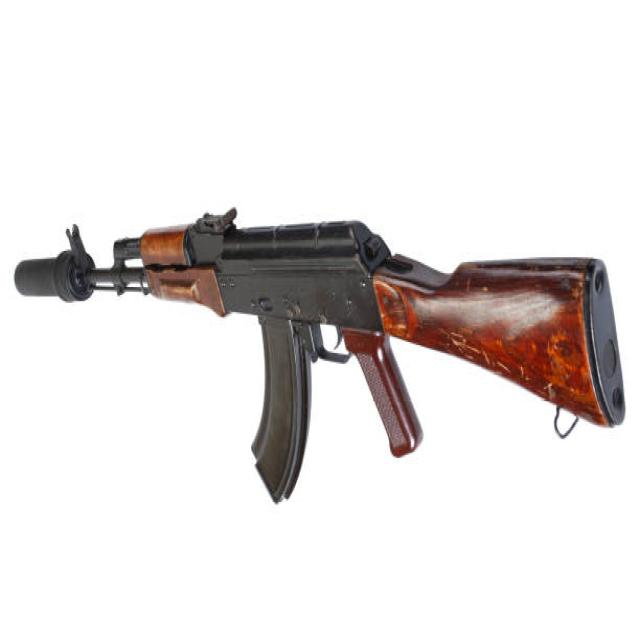rifle: (7, 203, 630, 510)
